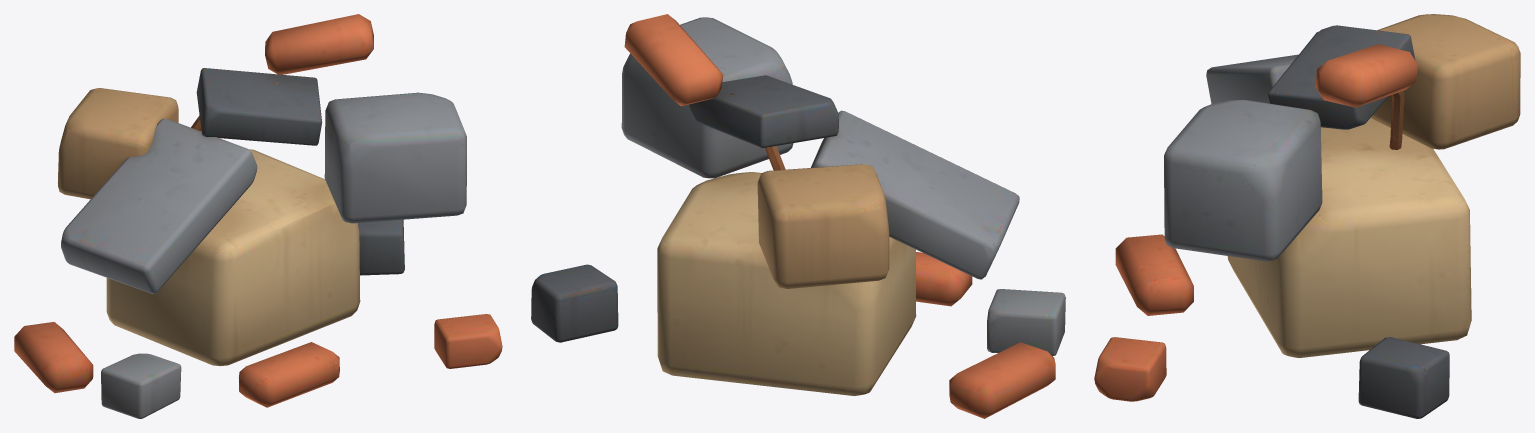
File: rubble-pile.glb
The picture shows the model from 3 angles, left to right: view 1: azimuth 30°, elevation 25°; view 2: azimuth 150°, elevation 25°; view 3: azimuth 270°, elevation 25°; orthographic projection. The views are drawn at different scales.
Parts seen in each view (by area): view 1: rubble-pile; view 2: rubble-pile; view 3: rubble-pile.
Part boxes in pixels (x1,y1,x2,y2): rubble-pile: (14,14,502,418); rubble-pile: (531,14,1065,418); rubble-pile: (1094,14,1520,418).
Bounding box in the file's own units: 0.8886 × 0.5576 × 0.6839.
6 materials, 6 textured.
